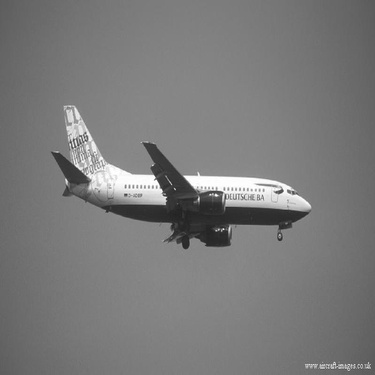airplane: (46, 96, 315, 250)
